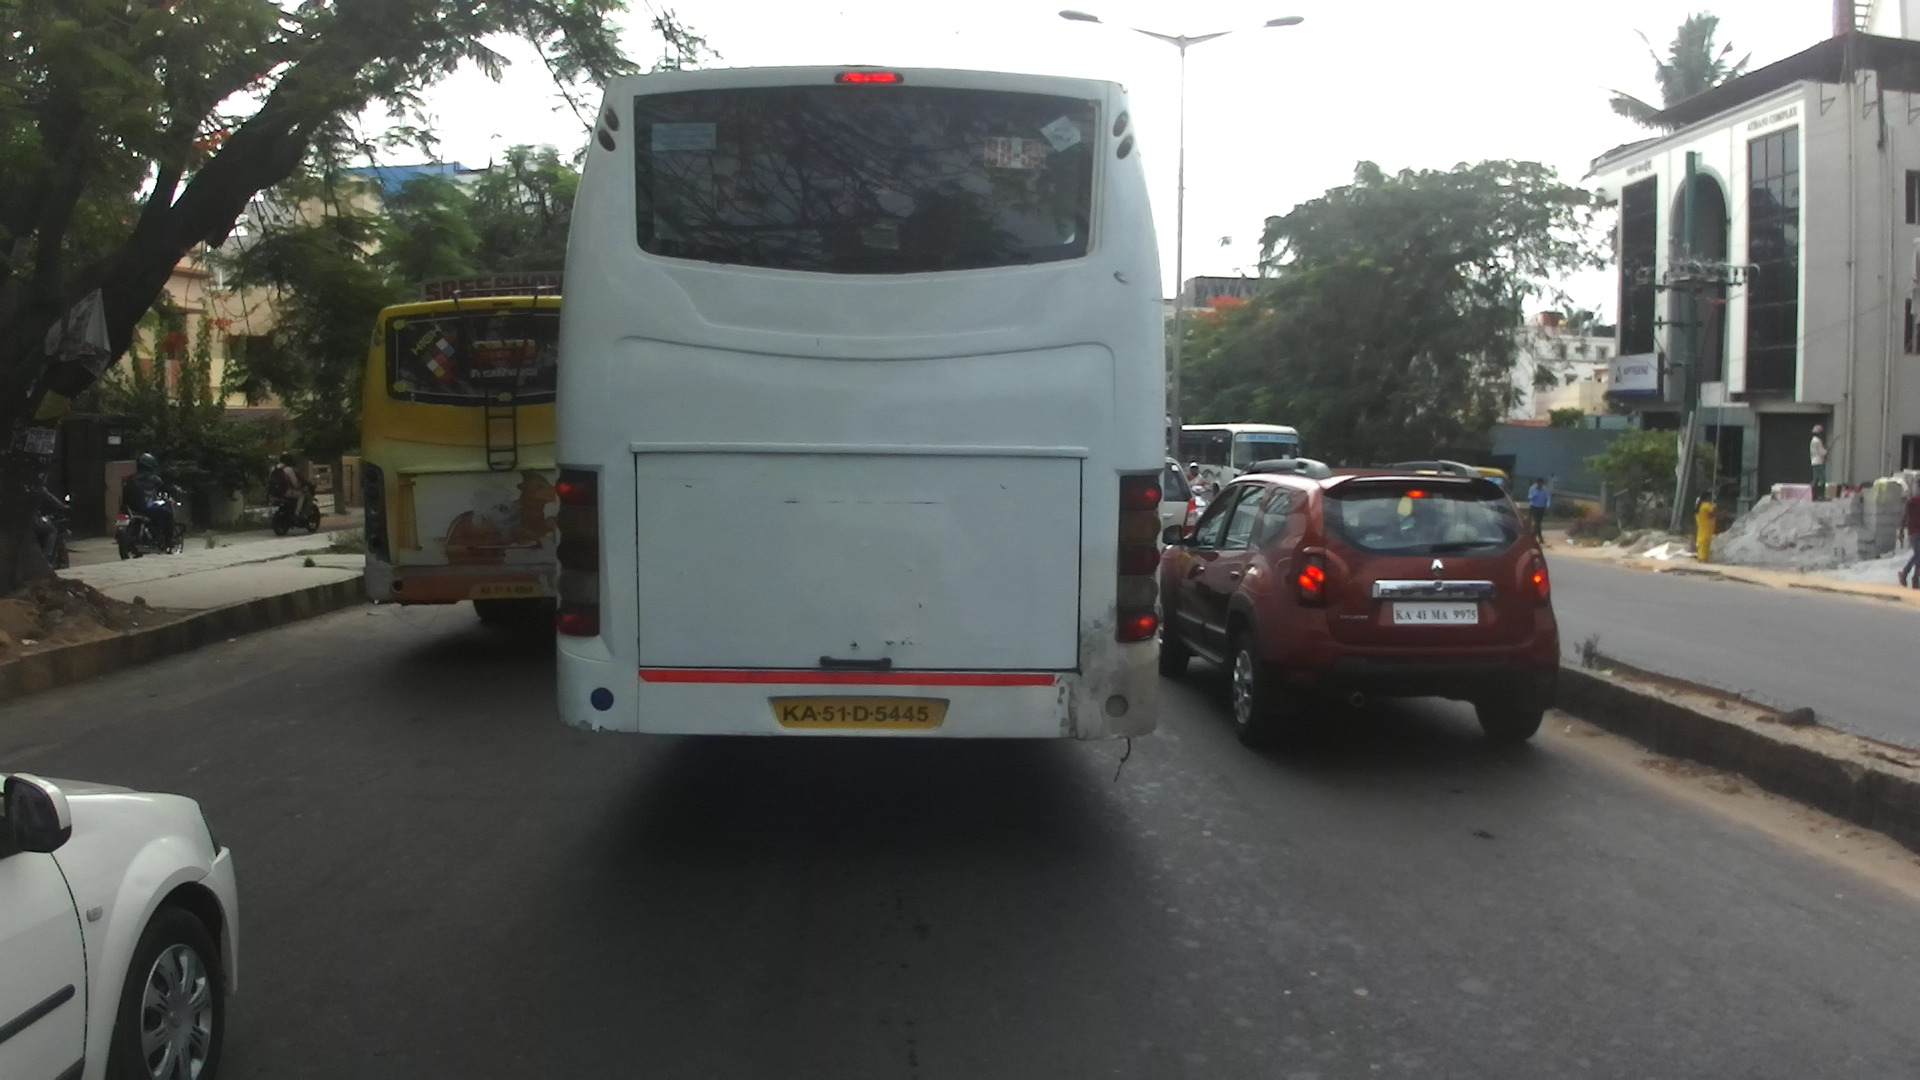autorickshaw: (1475, 464, 1511, 496)
bus: (548, 62, 1161, 749), (362, 269, 650, 630), (1164, 422, 1301, 476)
car: (1155, 457, 1561, 750), (1, 771, 237, 1080), (1159, 456, 1196, 563)
motorcycle: (113, 484, 187, 560), (27, 494, 75, 568), (269, 484, 322, 537), (1189, 484, 1209, 530)
person: (1896, 483, 1920, 589), (1806, 421, 1829, 502), (1693, 488, 1717, 565), (1528, 475, 1550, 549)
rider: (125, 453, 177, 556), (26, 467, 61, 565), (267, 448, 308, 526), (1184, 462, 1207, 497)
